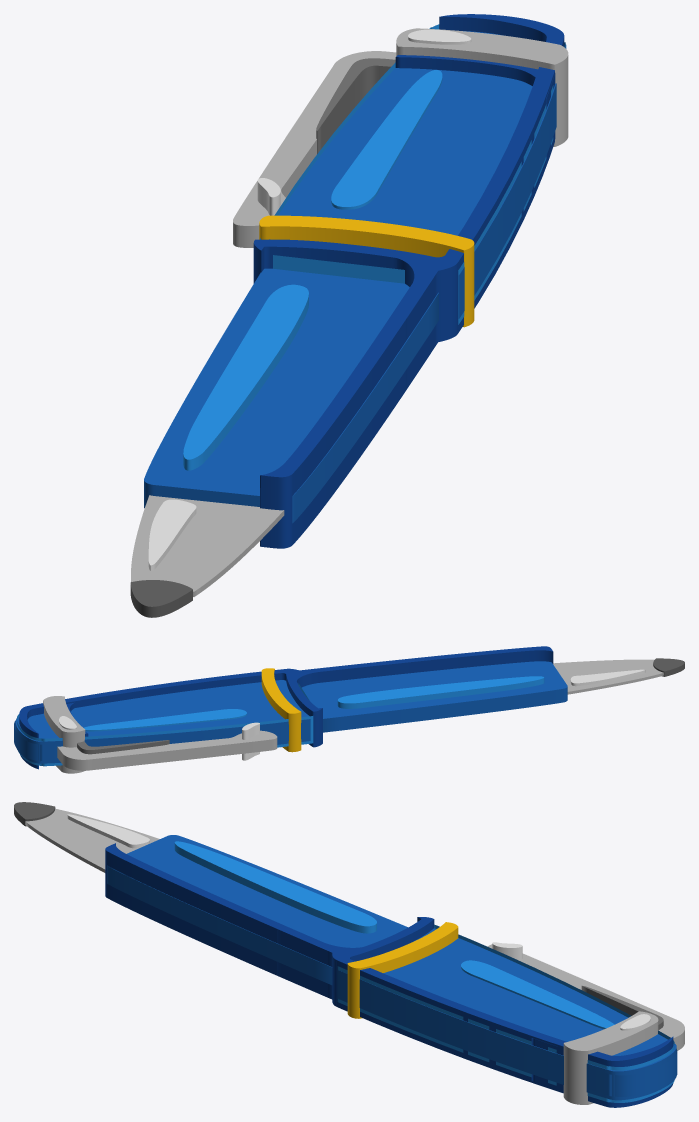
Rendered from emoji_u1f58a.glb.
The picture shows the model from 3 angles, top to bottom: view 1: azimuth 30°, elevation 25°; view 2: azimuth 150°, elevation 25°; view 3: azimuth 270°, elevation 25°; orthographic projection. The views are drawn at different scales.
Parts seen in each view (by area): view 1: emoji_u1f58a; view 2: emoji_u1f58a; view 3: emoji_u1f58a.
Part boxes in pixels (bbox=[...]): emoji_u1f58a: bbox=[130, 14, 568, 617]; emoji_u1f58a: bbox=[14, 646, 684, 773]; emoji_u1f58a: bbox=[14, 802, 684, 1107].
Bounding box in the file's own units: 0.0334 × 0.0032 × 0.0338.
